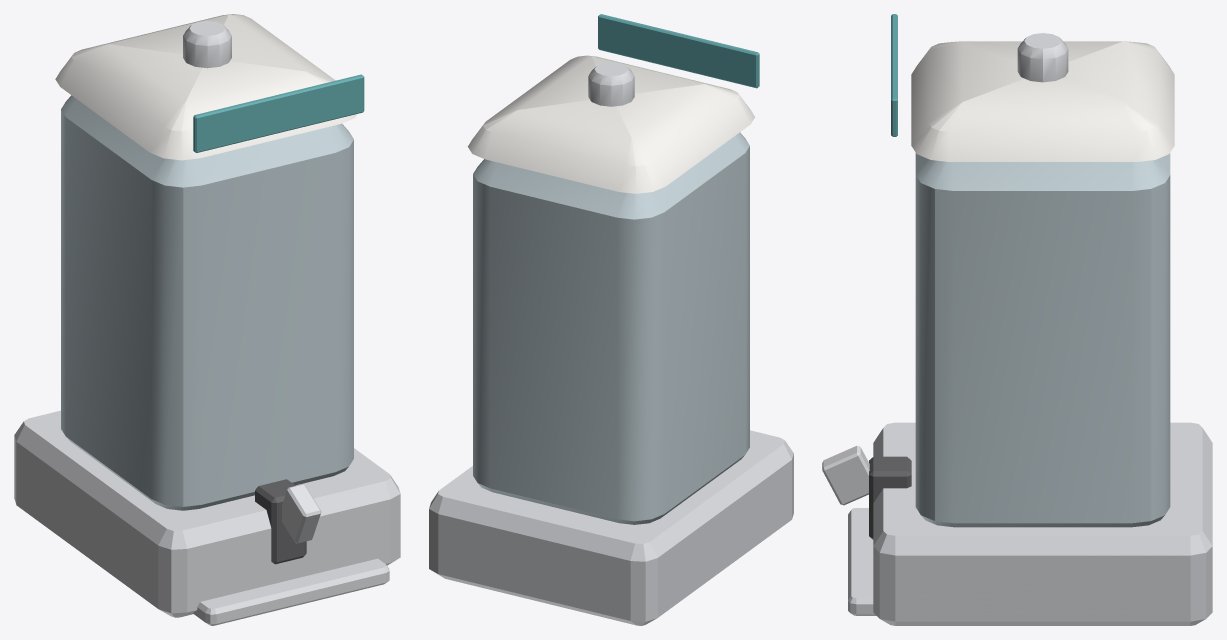
Rendered from fast-food-and-drive-thru-iced-coffee-dispenser-e4cf32e5__16157.glb.
3 renders of one model, left to right at view 1: azimuth 30°, elevation 25°; view 2: azimuth 150°, elevation 25°; view 3: azimuth 270°, elevation 25°, orthographic. The views are drawn at different scales.
Parts seen in each view (by area): view 1: iced-coffee-dispenser; view 2: iced-coffee-dispenser; view 3: iced-coffee-dispenser.
Boxes of the visible parts, bbox=[...] form: iced-coffee-dispenser: bbox=[14, 14, 400, 625]; iced-coffee-dispenser: bbox=[429, 14, 793, 625]; iced-coffee-dispenser: bbox=[822, 14, 1212, 625].
Bounding box in the file's own units: 0.34 × 0.69 × 0.4601.
